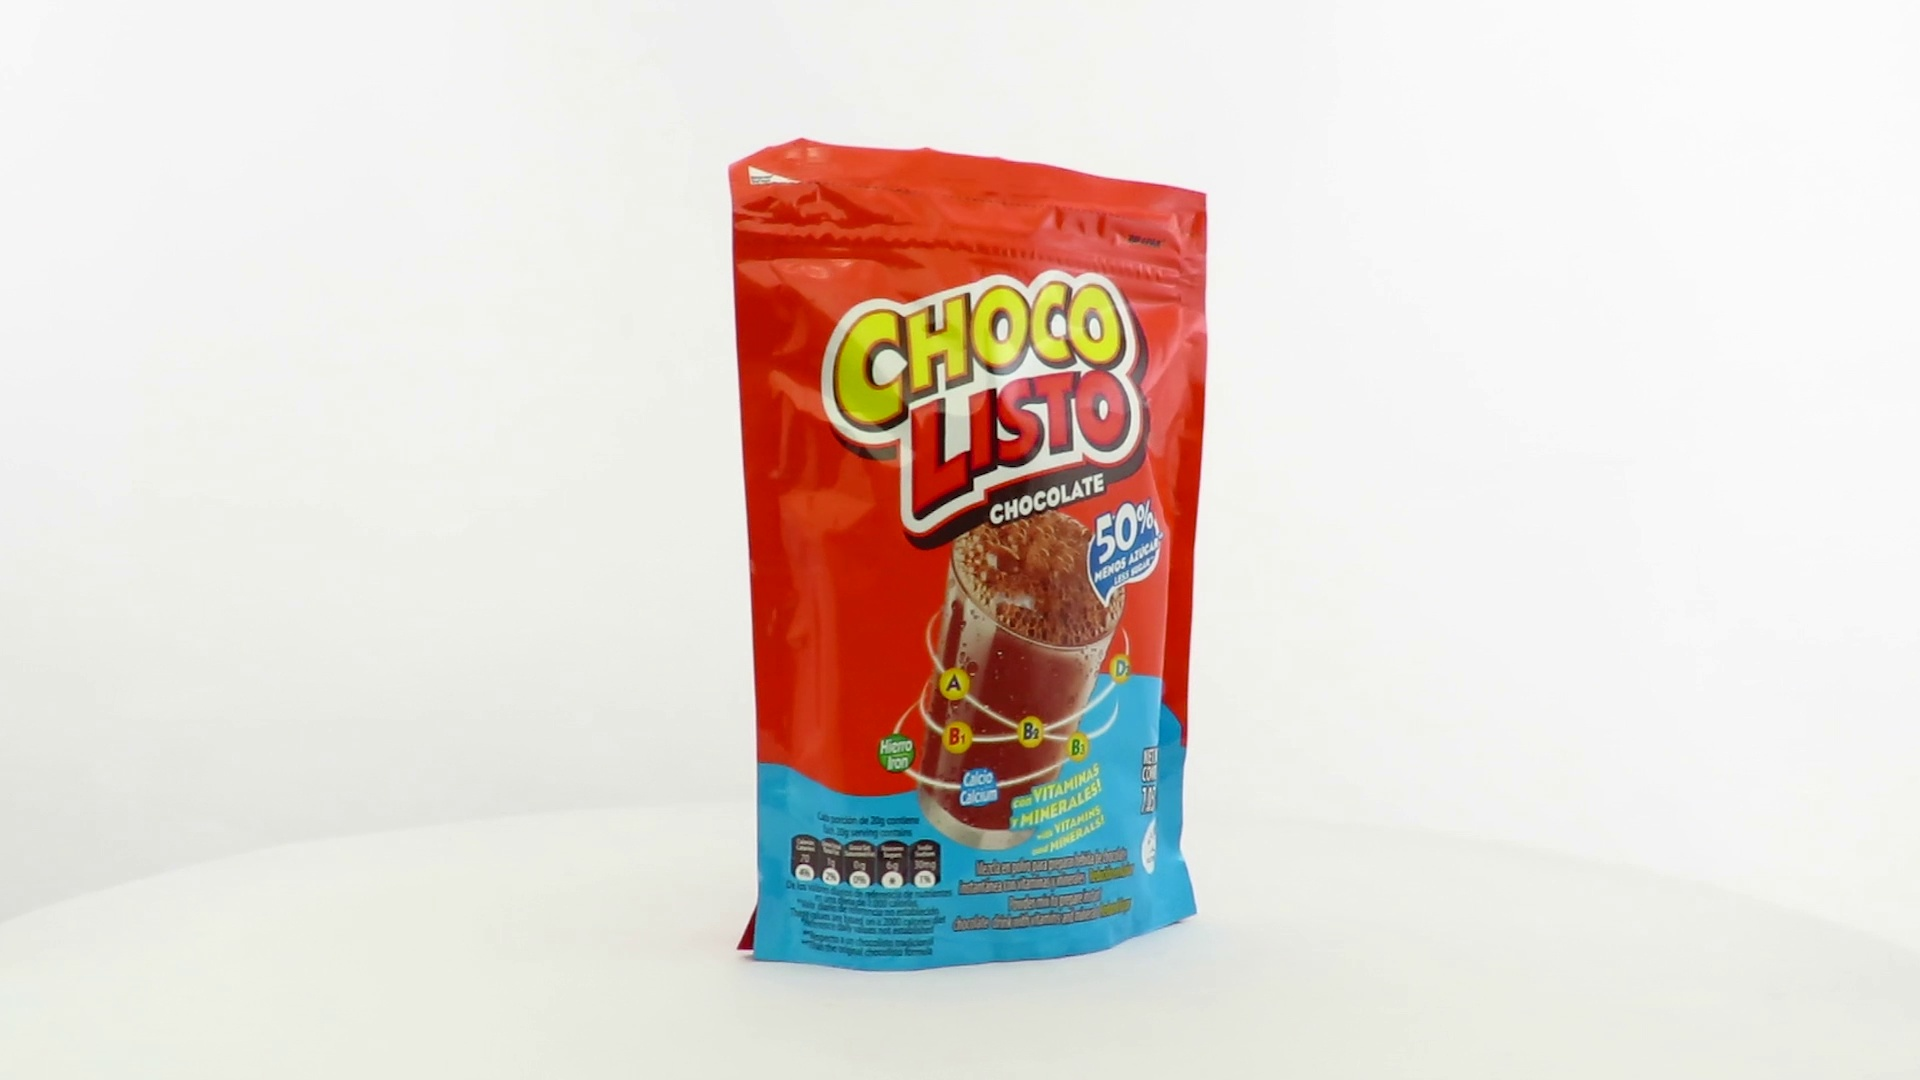COL0170104DYP20000: (723, 133, 1215, 978)
